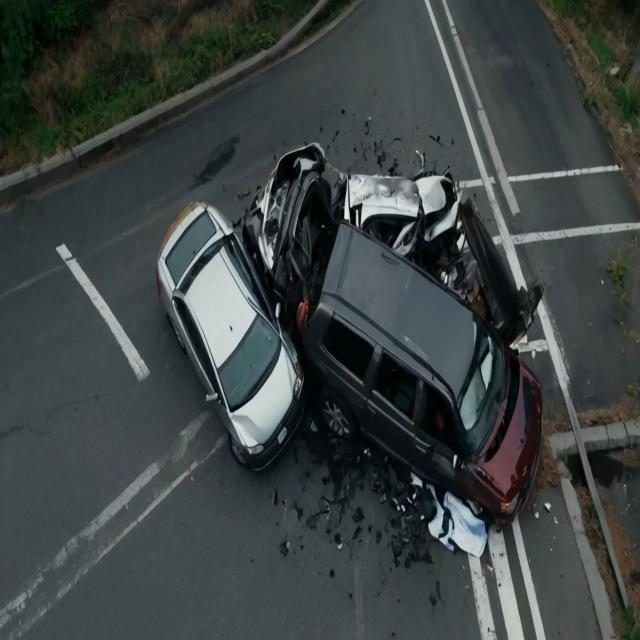Accident: (160, 140, 542, 532)
